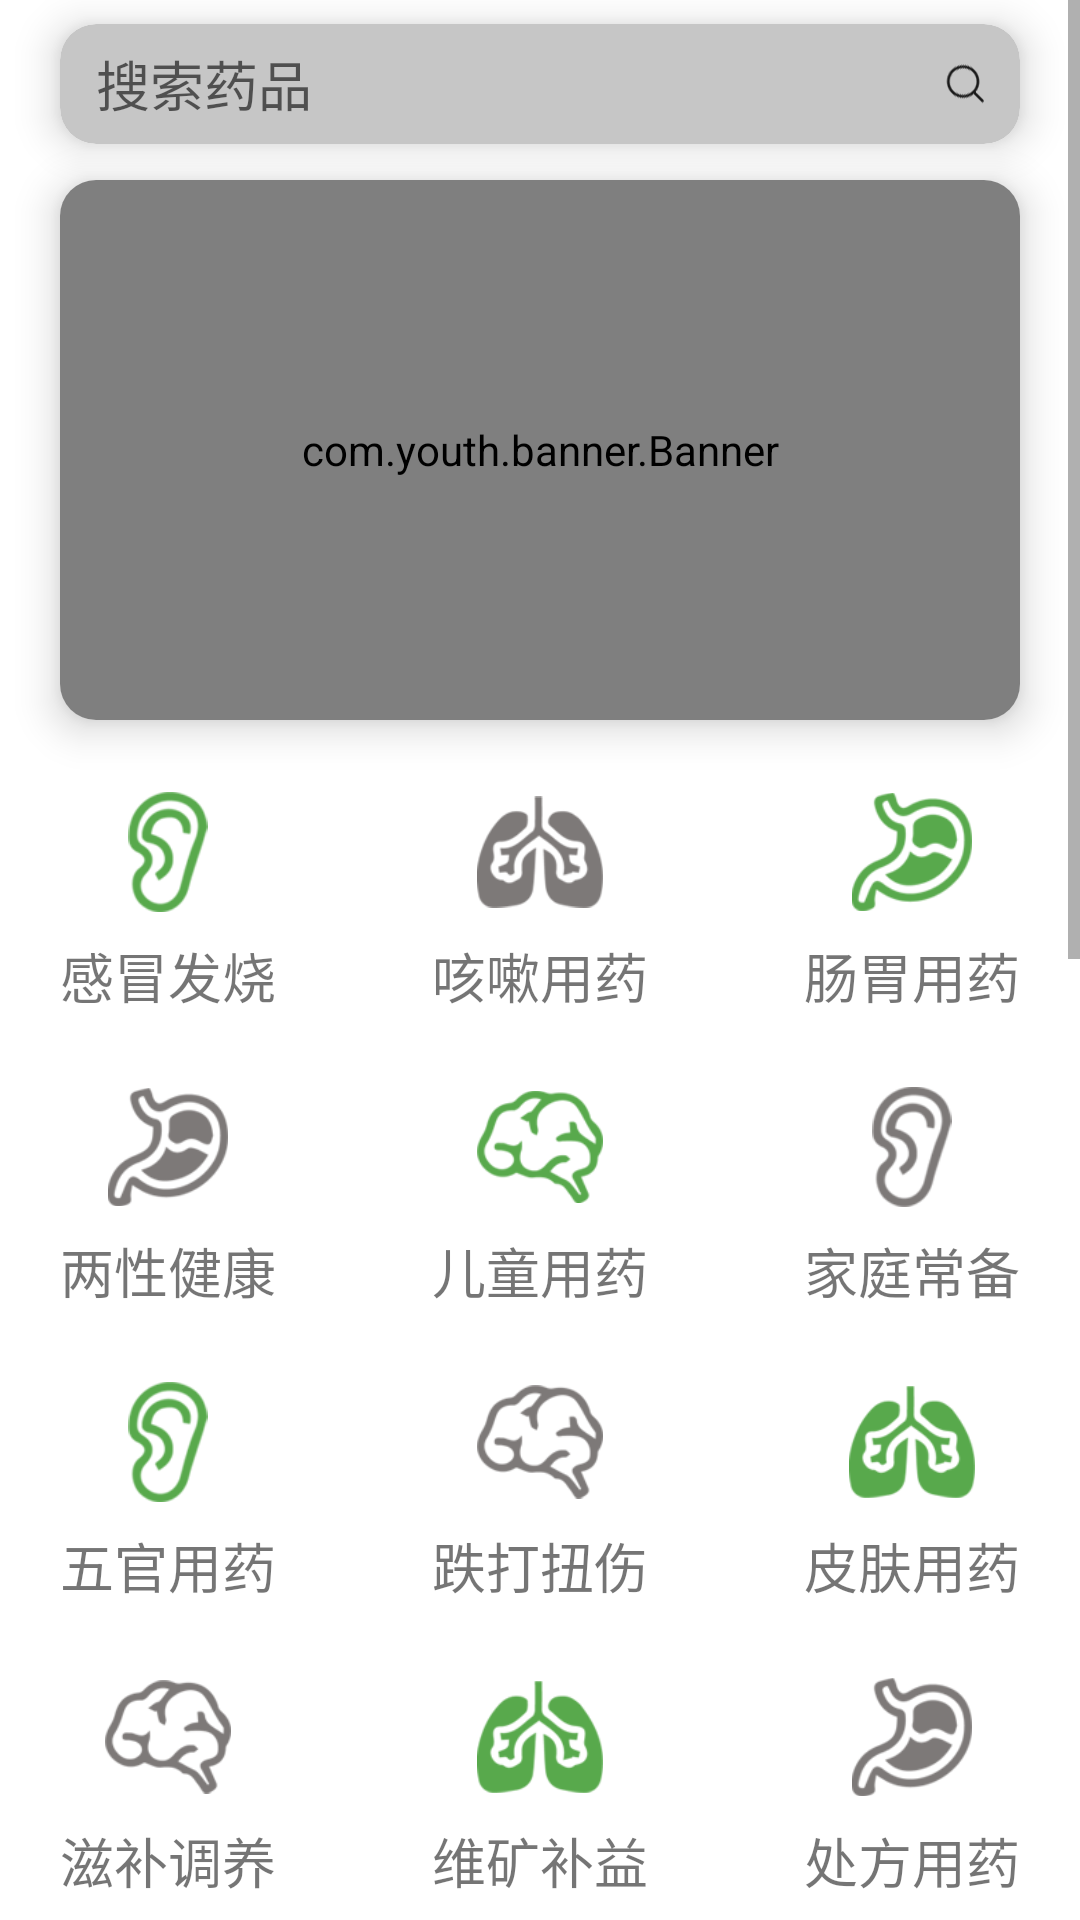

Icon bounding boxes for this 1080px x 1920px phone screenshot, format bbox=(x1, y1, x2, y2):
brain: bbox=(477, 1385, 603, 1499), bbox=(105, 1680, 231, 1794)
brain check: bbox=(477, 1091, 603, 1203)
ear: bbox=(872, 1087, 952, 1207)
ear check: bbox=(128, 792, 208, 912), bbox=(128, 1382, 208, 1502)
stomach: bbox=(108, 1088, 228, 1206), bbox=(852, 1678, 972, 1796)
stomach check: bbox=(852, 793, 972, 911)
